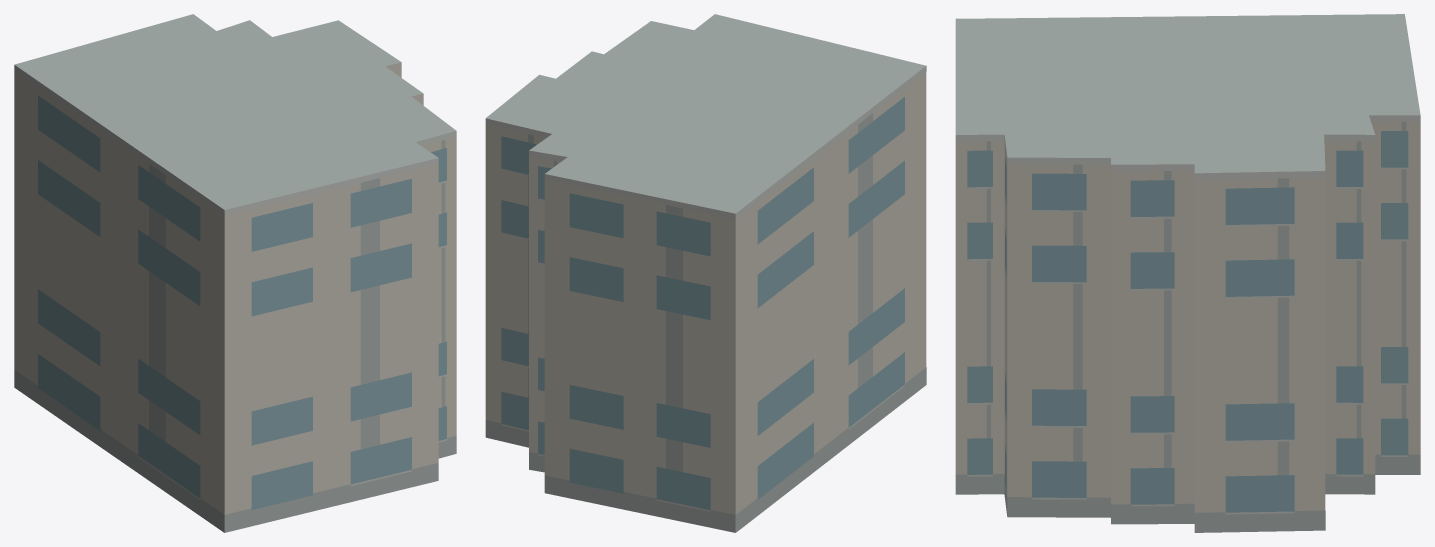
The model's file is survey-upis-32644402.glb.
3 views of the same model, side by side, from view 1: azimuth 30°, elevation 25°; view 2: azimuth 150°, elevation 25°; view 3: azimuth 270°, elevation 25° (orthographic). The views are drawn at different scales.
Visible parts, largest first — view 1: survey-upis-32644402.tmp; view 2: survey-upis-32644402.tmp; view 3: survey-upis-32644402.tmp.
Part boxes in pixels (x1,y1,x2,y2): survey-upis-32644402.tmp: (14, 14, 456, 532); survey-upis-32644402.tmp: (485, 14, 926, 532); survey-upis-32644402.tmp: (955, 14, 1420, 532).
Size of the model in its own units: 12.64 by 13.3 by 15.6.
